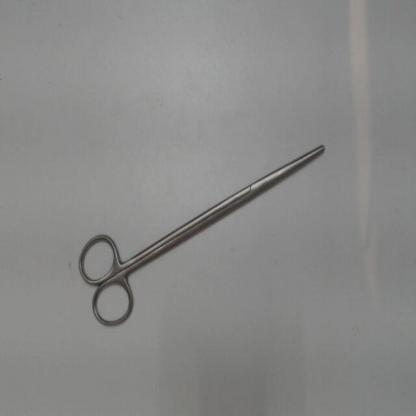9 Metzenbaum Scissors: (73, 141, 328, 338)
